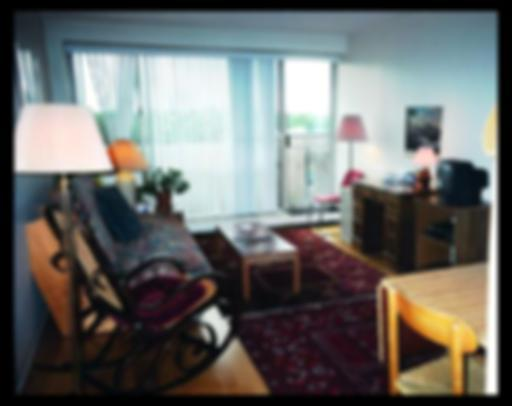Otro Obstaculo: (19, 98, 138, 393)
